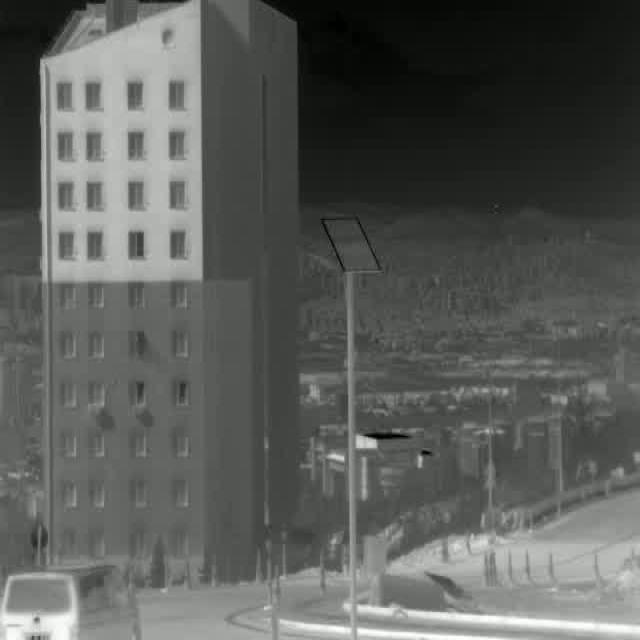Car: (0, 560, 140, 640)
